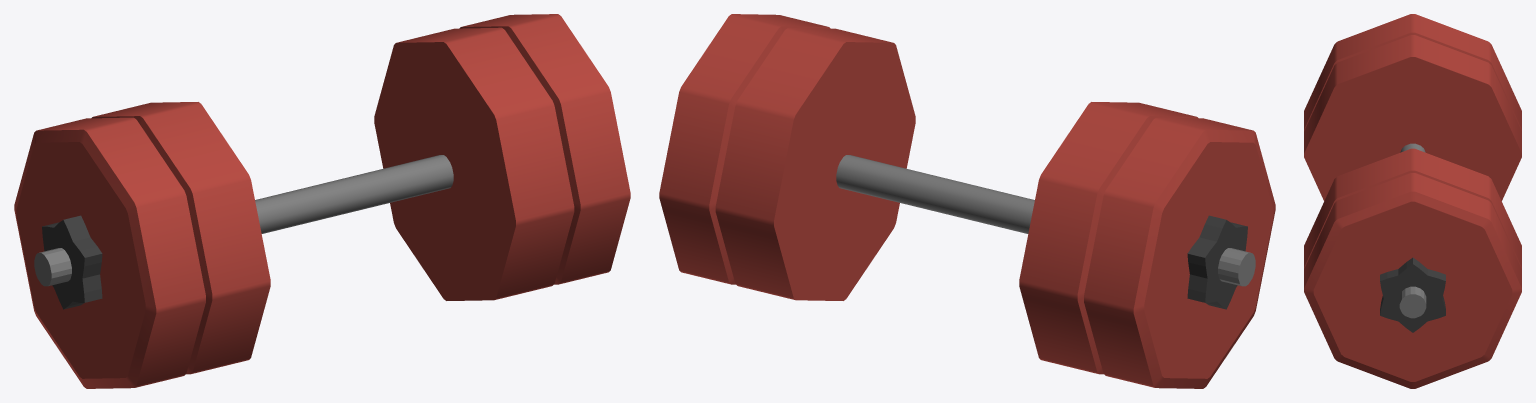
File: dumble.fbx
3 renders of one model, left to right at view 1: azimuth 30°, elevation 25°; view 2: azimuth 150°, elevation 25°; view 3: azimuth 270°, elevation 25°, orthographic. The views are drawn at different scales.
Parts seen in each view (by area): view 1: dumble; view 2: dumble; view 3: dumble.
Part boxes in pixels (x1,y1,x2,y2): dumble: (14,14,630,388); dumble: (659,14,1275,388); dumble: (1304,14,1521,388).
Size of the model in its own units: 3.39 by 1.49 by 1.49.
